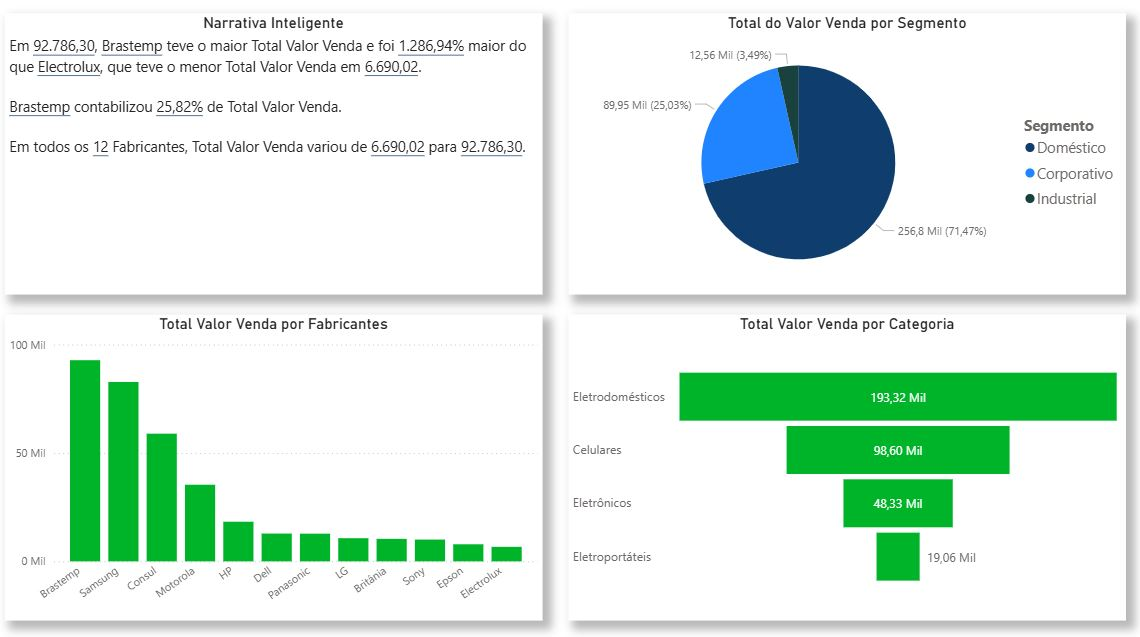

The dashboard page shown, as its layout file describes it:
{"tool":"powerbi","page":{"name":"Narrativa Inteligente","canvas":[1280,720],"ordinal":1},"visuals":[{"type":"pieChart","title":"Total do Valor Venda por Segmento ","fields":{"Y":["Sum(Vendas.ValorVenda)"],"Category":["Vendas.Segmento"]},"box":[639.5,28.8,612,308.7],"z":0},{"type":"columnChart","fields":{"Y":["Sum(Vendas.ValorVenda)"],"Category":["Vendas.Fabricante"]},"box":[20.6,359.5,590.1,336.2],"z":1000},{"type":"funnel","title":"Total Valor Venda por Categoria","fields":{"Y":["Sum(Vendas.ValorVenda)"],"Category":["Vendas.Categoria"]},"box":[639.5,359.5,612,336.2],"z":2000},{"type":"textbox","title":"Narrativa Inteligente","box":[21,29,590,309],"z":3000}]}

Visuals, with their boxes in screenshot pixels (x1, y1, x2, y2), scaled from the page's 1280x720 canvas onto the 1140x637 screenshot:
"Total do Valor Venda por Segmento " pieChart: {"left": 570, "top": 25, "right": 1115, "bottom": 299}
columnChart - Sum(Vendas.ValorVenda) x Vendas.Fabricante: {"left": 18, "top": 318, "right": 544, "bottom": 616}
"Total Valor Venda por Categoria" funnel: {"left": 570, "top": 318, "right": 1115, "bottom": 616}
"Narrativa Inteligente" textbox: {"left": 19, "top": 26, "right": 544, "bottom": 299}
